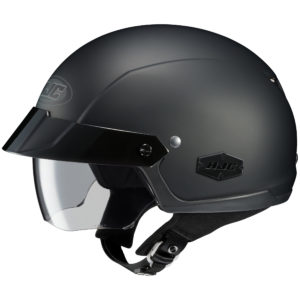with_helmet: (3, 22, 300, 278)
